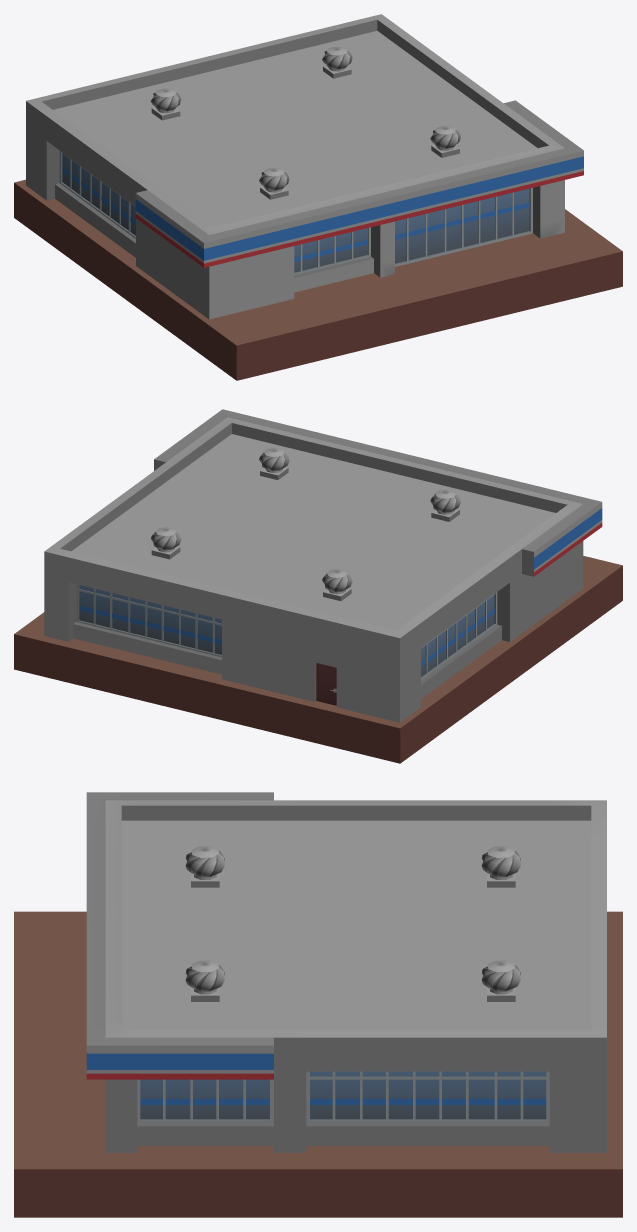
File: buildings-business-conveniencestore_v2.glb
3 views of the same model, one above another, from view 1: azimuth 30°, elevation 25°; view 2: azimuth 150°, elevation 25°; view 3: azimuth 270°, elevation 25° (orthographic). The views are drawn at different scales.
Parts seen in each view (by area): view 1: ConvenienceStore_v2_base, ConvenienceStore_v2_windowRefl, ConvenienceStore_v2_refl; view 2: ConvenienceStore_v2_base, ConvenienceStore_v2_windowRefl, ConvenienceStore_v2_refl; view 3: ConvenienceStore_v2_base, ConvenienceStore_v2_windowRefl, ConvenienceStore_v2_refl, ConvenienceStore_v2_vent1_anim_0_90_0, ConvenienceStore_v2_vent3_anim_0_90_0, ConvenienceStore_v2_vent2_anim_0_90_0, ConvenienceStore_v2_vent4_anim_0_90_0.
Part boxes in pixels (x1,y1,x2,y2): ConvenienceStore_v2_base: [14, 14, 622, 380]; ConvenienceStore_v2_windowRefl: [62, 153, 529, 272]; ConvenienceStore_v2_refl: [151, 46, 459, 199]; ConvenienceStore_v2_base: [14, 409, 622, 763]; ConvenienceStore_v2_windowRefl: [79, 585, 494, 676]; ConvenienceStore_v2_refl: [151, 448, 459, 692]; ConvenienceStore_v2_base: [14, 792, 622, 1217]; ConvenienceStore_v2_windowRefl: [140, 1071, 546, 1119]; ConvenienceStore_v2_refl: [191, 846, 515, 1001]; ConvenienceStore_v2_vent1_anim_0_90_0: [185, 851, 224, 877]; ConvenienceStore_v2_vent3_anim_0_90_0: [481, 851, 520, 877]; ConvenienceStore_v2_vent2_anim_0_90_0: [481, 965, 520, 991]; ConvenienceStore_v2_vent4_anim_0_90_0: [185, 965, 224, 991].
Bounding box in the file's own units: 23.72 × 7.68 × 23.33.
